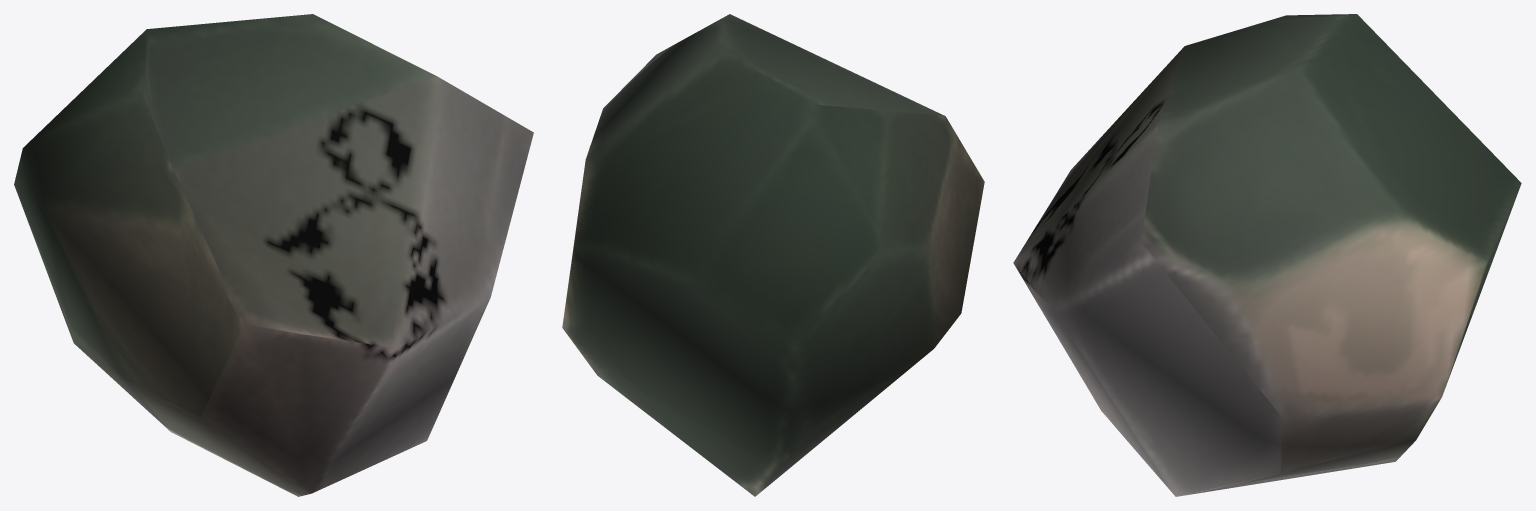
3 renders of one model, left to right at view 1: azimuth 30°, elevation 25°; view 2: azimuth 150°, elevation 25°; view 3: azimuth 270°, elevation 25°, orthographic. The views are drawn at different scales.
Visible parts, largest first — view 1: Ց.001; view 2: Ց.001; view 3: Ց.001.
Part boxes in pixels (x1=…): Ց.001: x1=14, y1=14, x2=533, y2=496; Ց.001: x1=562, y1=14, x2=984, y2=496; Ց.001: x1=1013, y1=14, x2=1521, y2=496.
Bounding box in the file's own units: 100 × 101 × 108.
